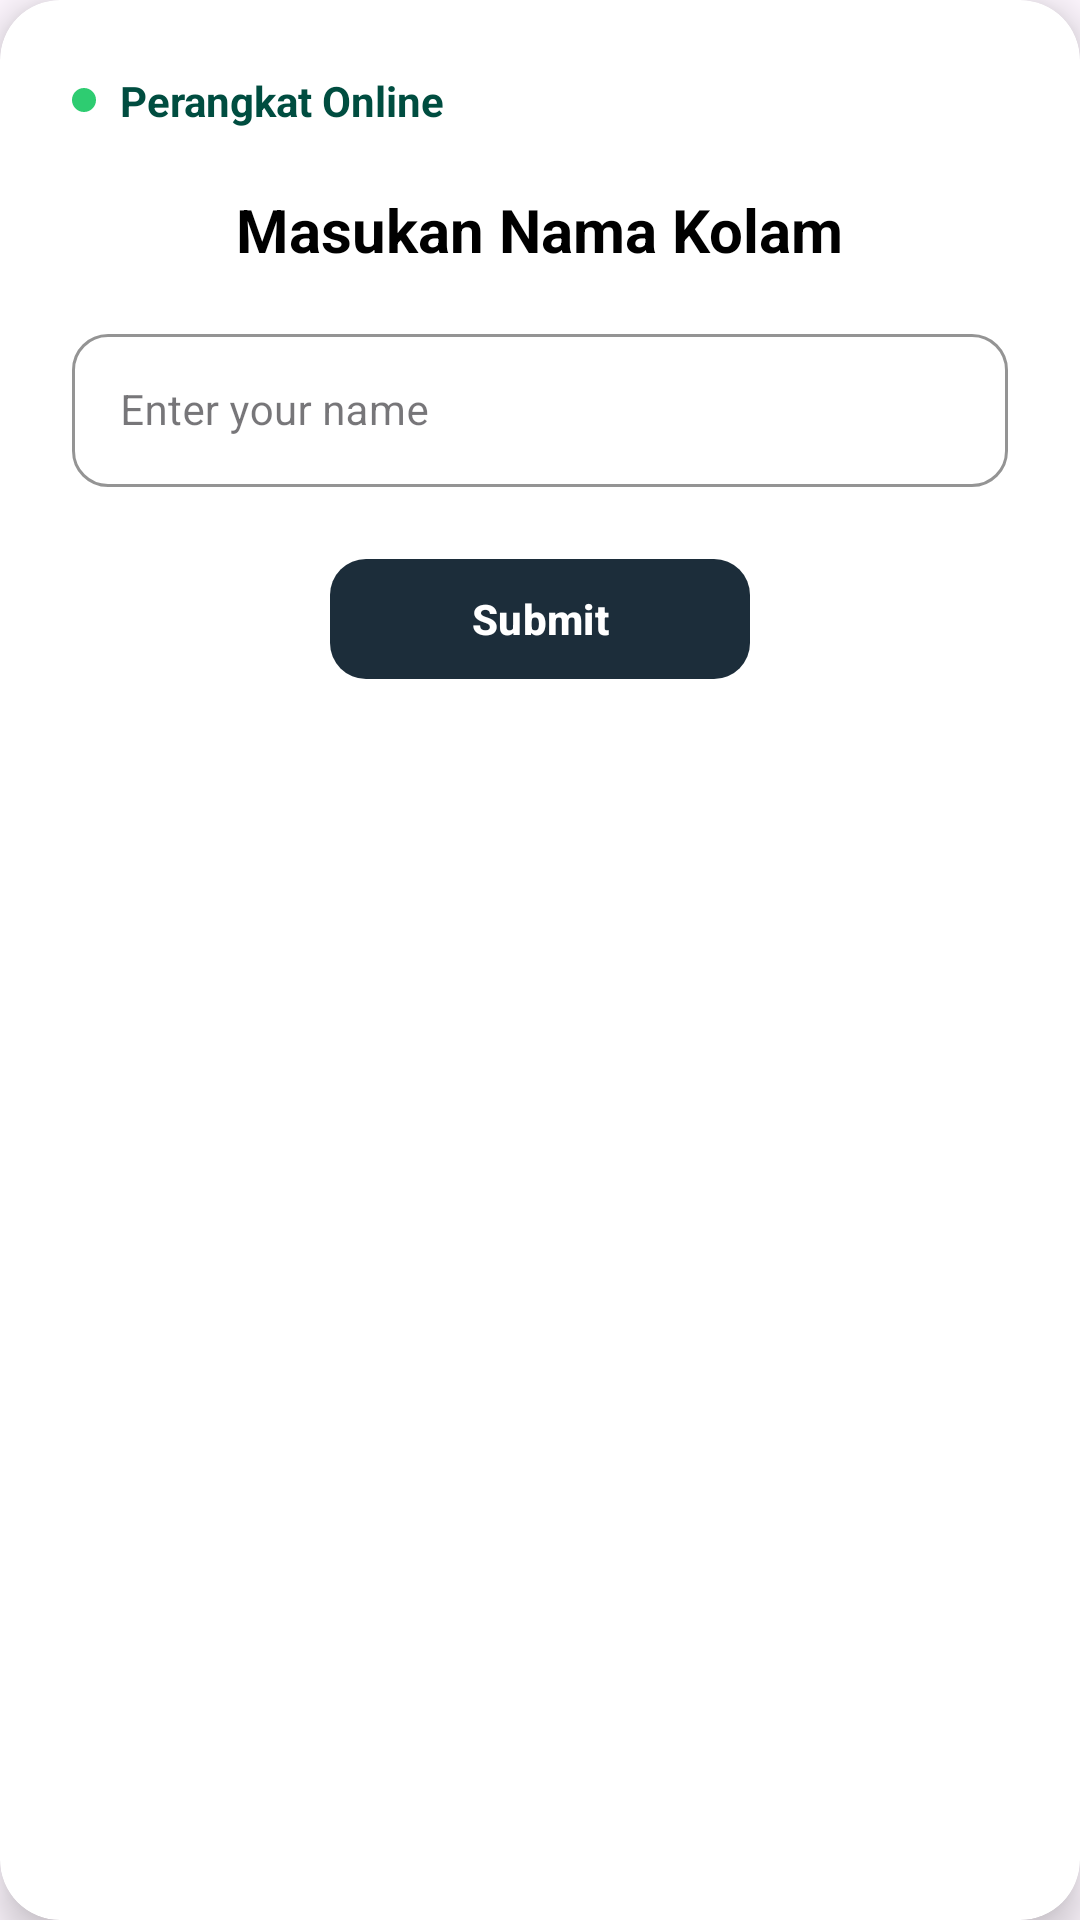

Where icons sit on this 1080x1920 app screen, as (x1, y1, x2, y2):
dot: (72, 88, 96, 112)
